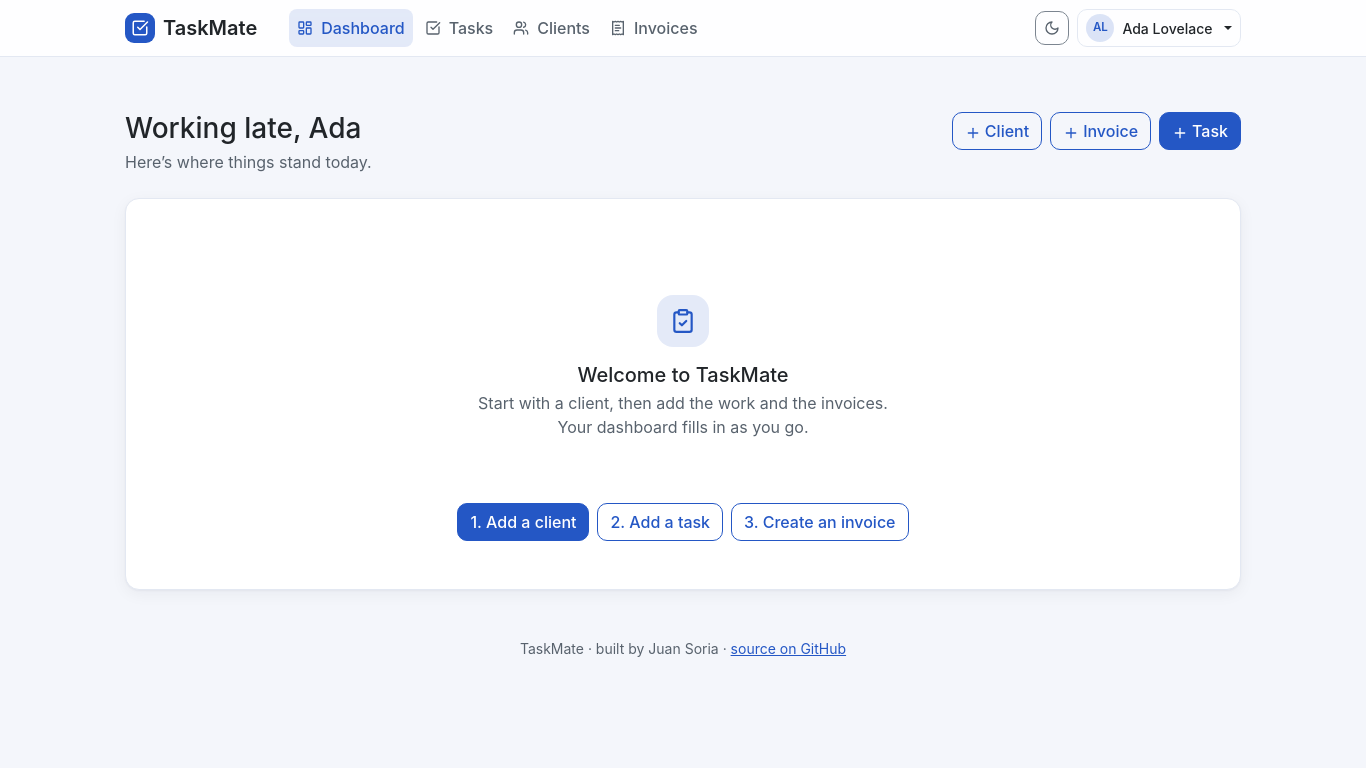
Test case: App shell › account menu › keeps the user signed in if account deletion fails
Expected: the heading "Working late, Ada" is shown, x1=125 y1=112 x2=372 y2=146
What coordinates should you click on to do the following:
click the button with aria-label "Account menu"
I would click on:
 (1159, 28)
Its box is x1=1077 y1=9 x2=1241 y2=47.
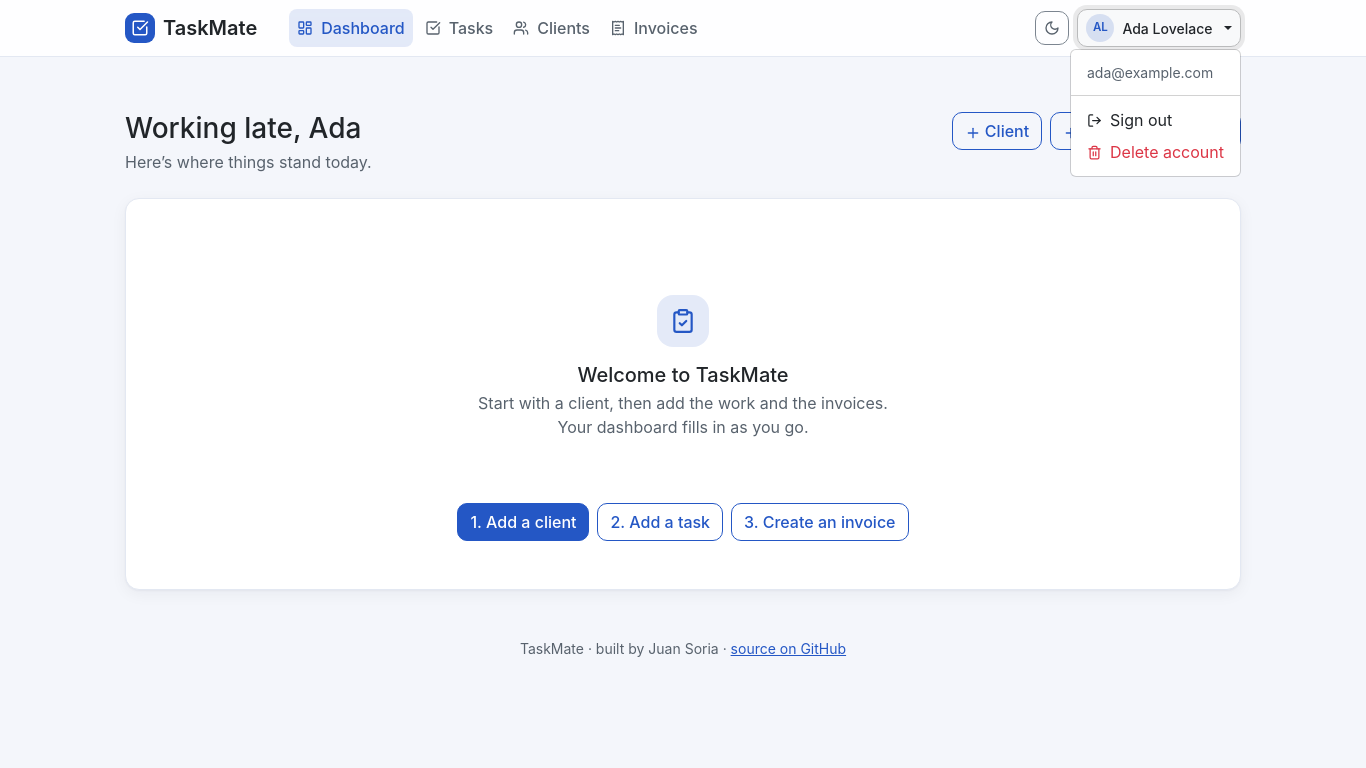
What coordinates should you click on to do the following:
click the button "Delete account"
I would click on:
 (1156, 152)
Its box is x1=1087 y1=142 x2=1224 y2=162.
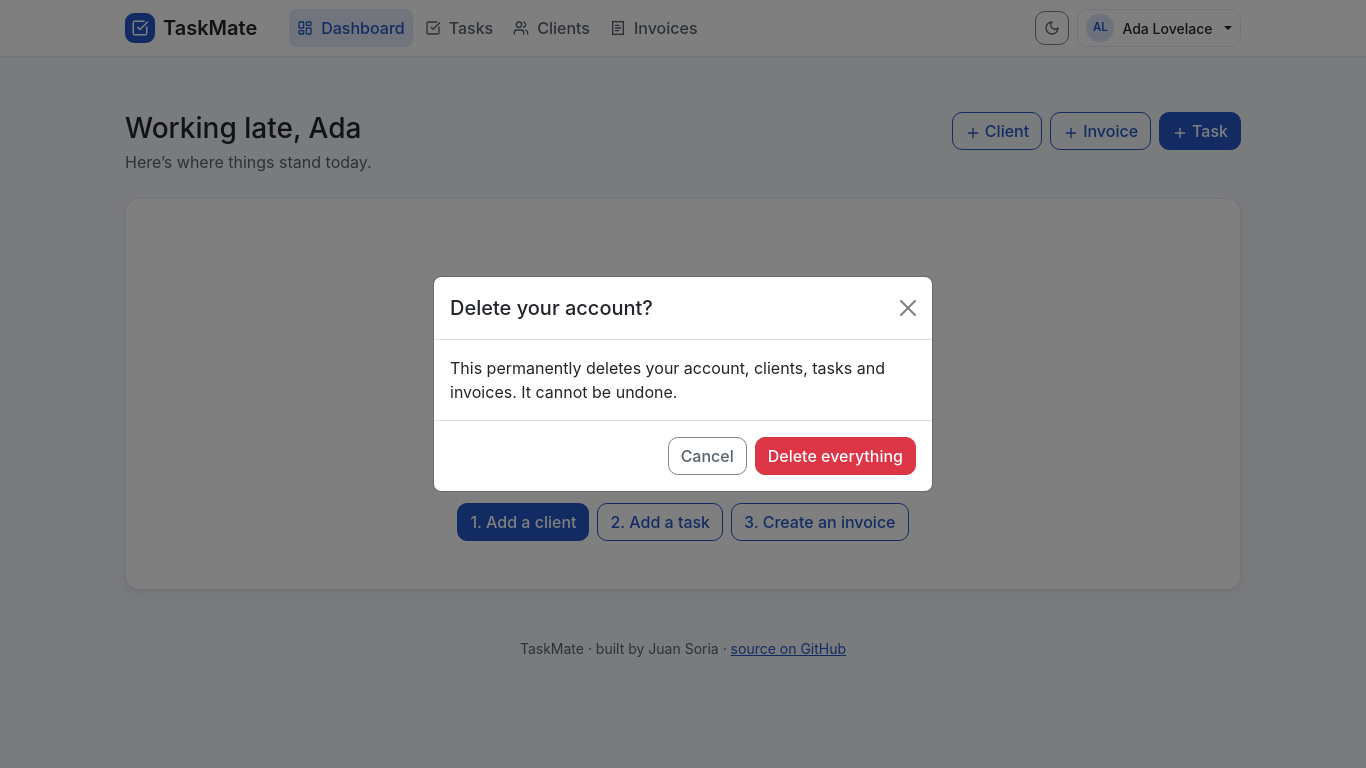
What coordinates should you click on to do the following:
click the button "Delete everything"
I would click on:
 (835, 456)
Its box is x1=755 y1=437 x2=916 y2=475.
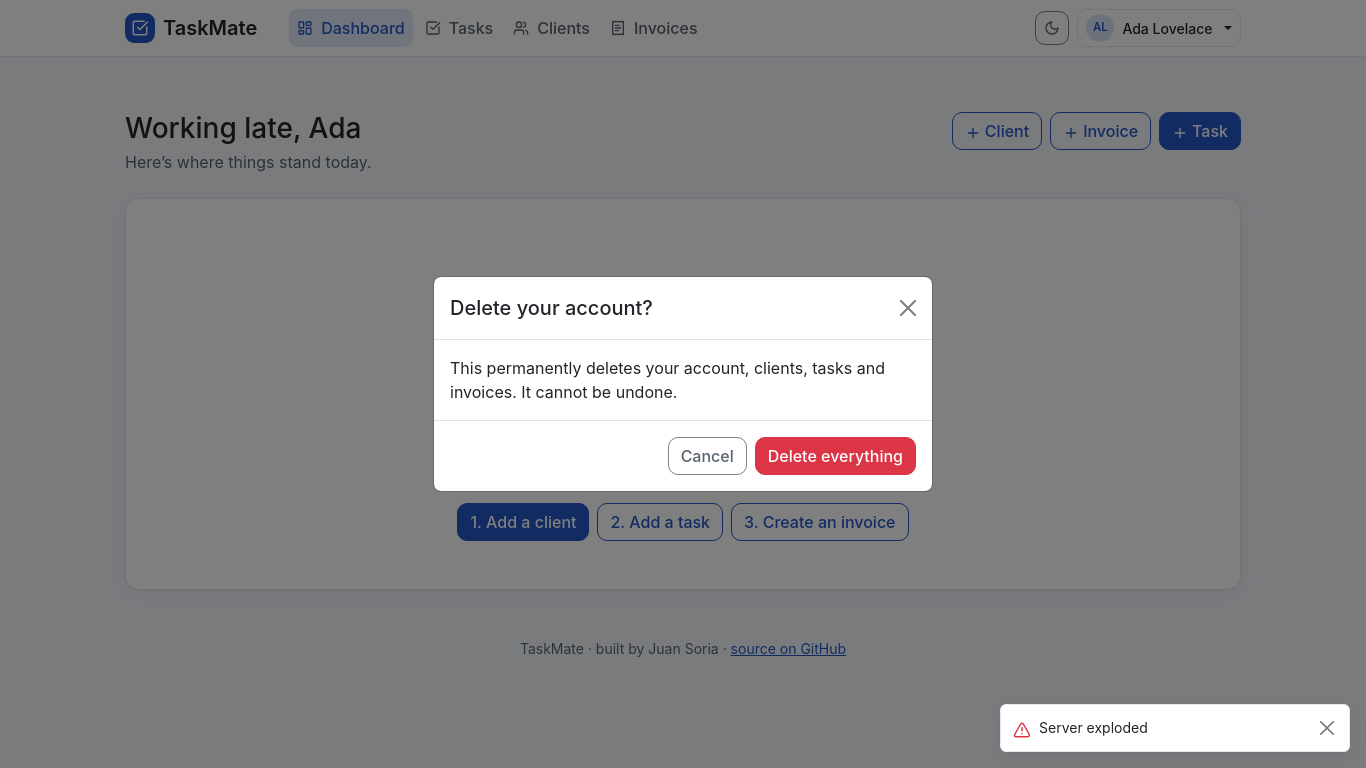
Expected: the message reads "Server exploded", x1=1039 y1=719 x2=1148 y2=736
